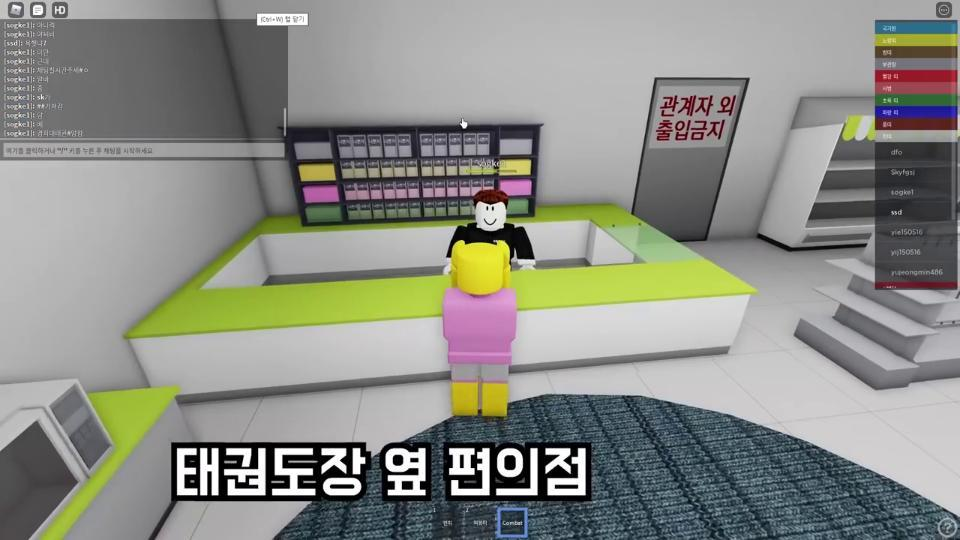Character: (444, 243, 518, 416), (443, 189, 536, 275)
